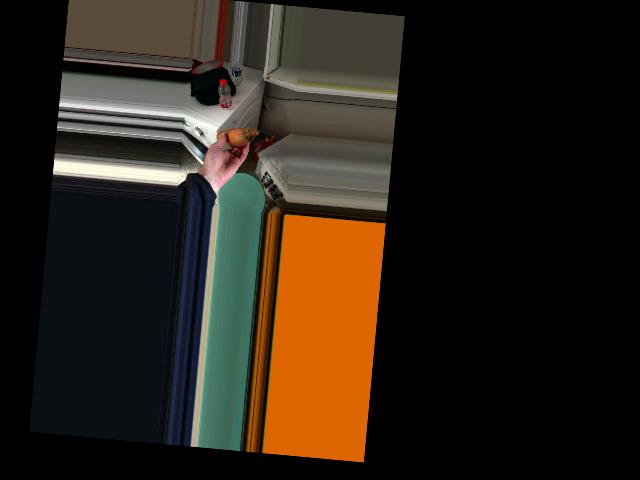sweet_potato: (218, 125, 251, 146)
